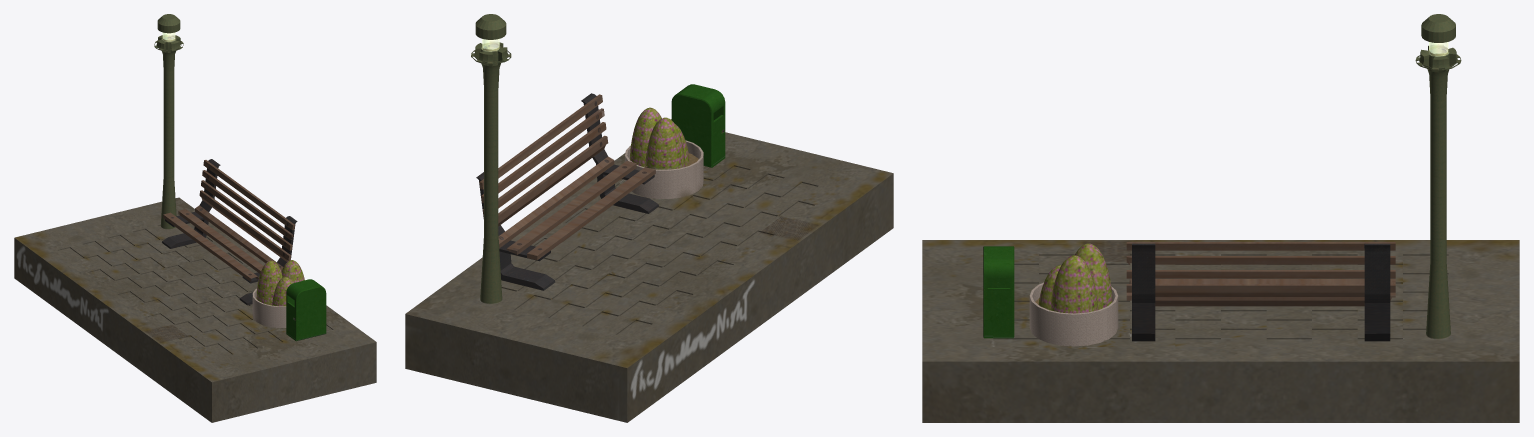
3 views of the same model, side by side, from view 1: azimuth 30°, elevation 25°; view 2: azimuth 150°, elevation 25°; view 3: azimuth 270°, elevation 25° (orthographic). The views are drawn at different scales.
Parts seen in each view (by area): view 1: pPlane1, polySurface21, pCylinder6, pCube8, polySurface8, polySurface5, pCylinder8; view 2: pPlane1, polySurface21, pCylinder6, pCube8, polySurface8, polySurface5, pCylinder8; view 3: pPlane1, polySurface21, pCylinder6, polySurface8, polySurface5, pCube8, pCylinder8.
Part boxes in pixels (x1,y1,x2,y2): pPlane1: [14, 197, 376, 422]; polySurface21: [162, 159, 297, 305]; pCylinder6: [154, 35, 183, 229]; pCube8: [286, 279, 326, 341]; polySurface8: [256, 260, 304, 306]; polySurface5: [252, 288, 286, 327]; pCylinder8: [157, 14, 180, 41]; pPlane1: [405, 119, 893, 422]; polySurface21: [476, 93, 658, 290]; pCylinder6: [471, 42, 511, 304]; pCube8: [671, 84, 725, 167]; polySurface8: [630, 107, 689, 169]; polySurface5: [625, 140, 703, 199]; pCylinder8: [475, 14, 506, 51]; pPlane1: [922, 240, 1519, 422]; polySurface21: [1126, 242, 1395, 341]; pCylinder6: [1415, 45, 1461, 339]; polySurface8: [1038, 243, 1112, 313]; polySurface5: [1029, 282, 1118, 346]; pCube8: [983, 246, 1014, 338]; pCylinder8: [1421, 14, 1455, 56].
Bounding box in the file's own units: 2.83 × 4.1 × 5.88.
Materials: 1 (1 with a texture image).
